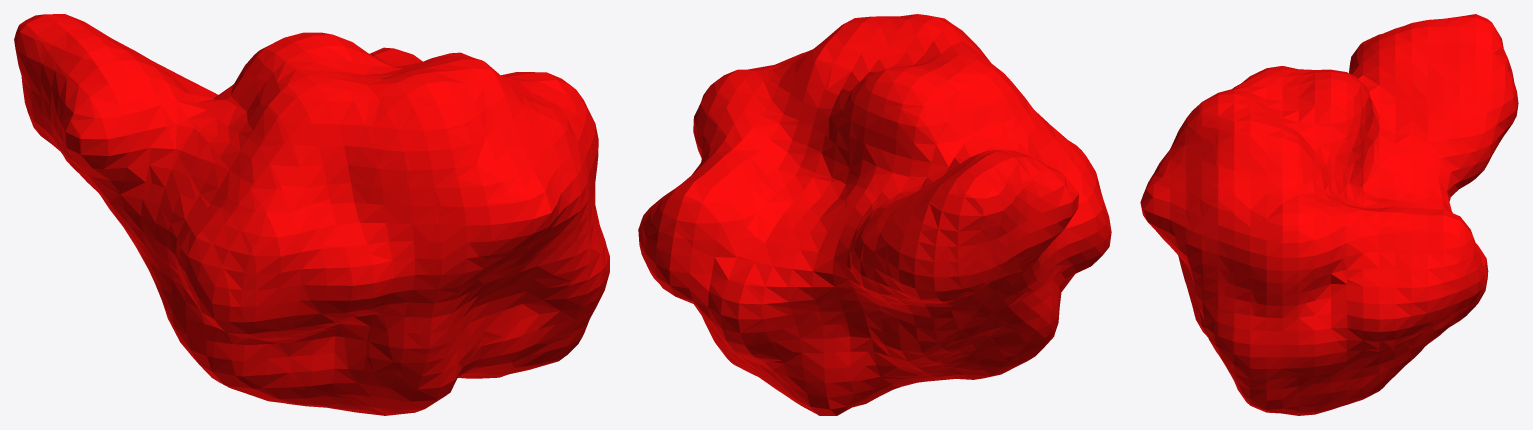
File: gatY_coarse.dae
3 views of the same model, side by side, from view 1: azimuth 30°, elevation 25°; view 2: azimuth 150°, elevation 25°; view 3: azimuth 270°, elevation 25° (orthographic). The views are drawn at different scales.
Visible parts, largest first — view 1: gatY; view 2: gatY; view 3: gatY.
Boxes of the visible parts, x1,y1,x2,y2 form: gatY: [14, 14, 609, 415]; gatY: [638, 14, 1111, 415]; gatY: [1140, 14, 1518, 415].
Bounding box in the file's own units: 57.79 × 43.85 × 53.39.
